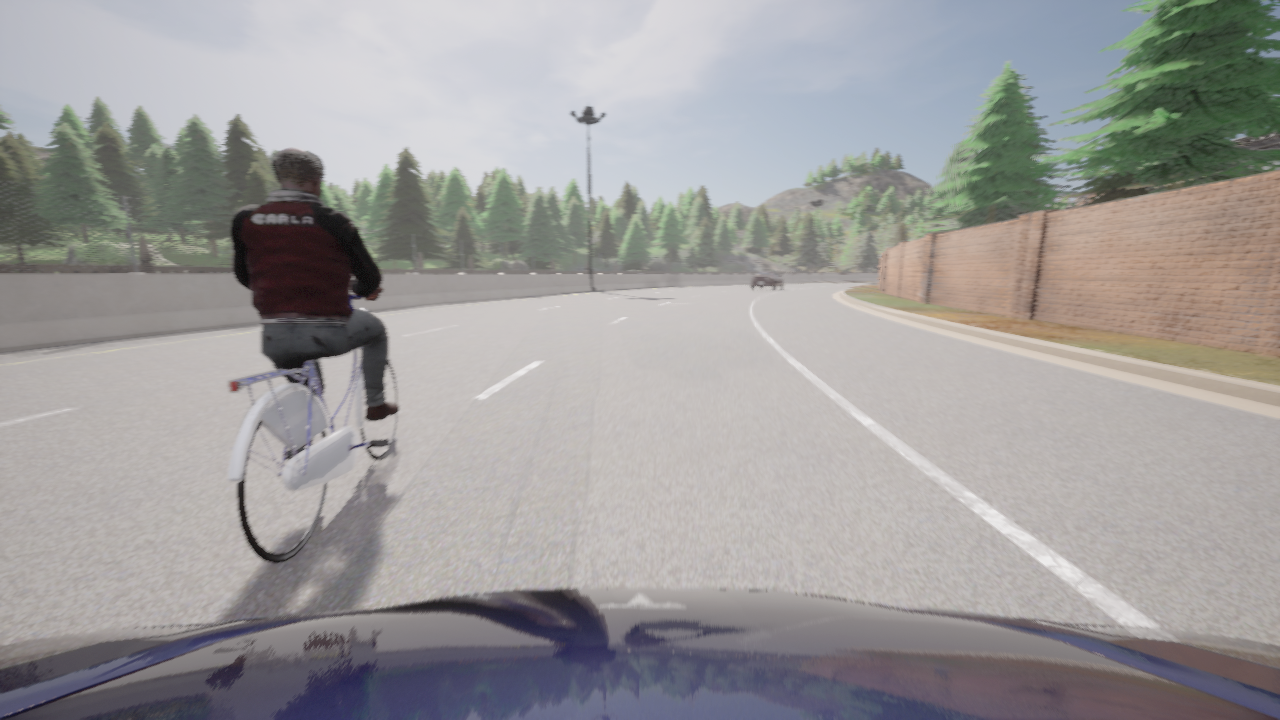cyclist: (0, 588, 1279, 719), (227, 295, 397, 563), (750, 271, 783, 290)
